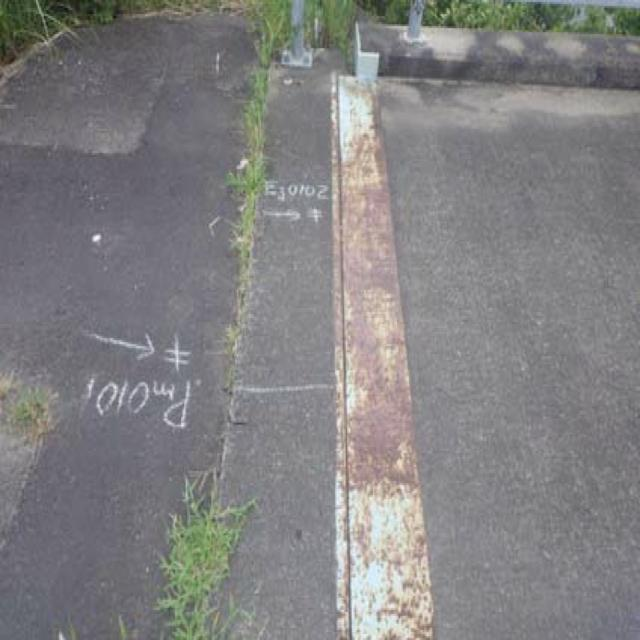corrosion: (334, 118, 438, 640)
